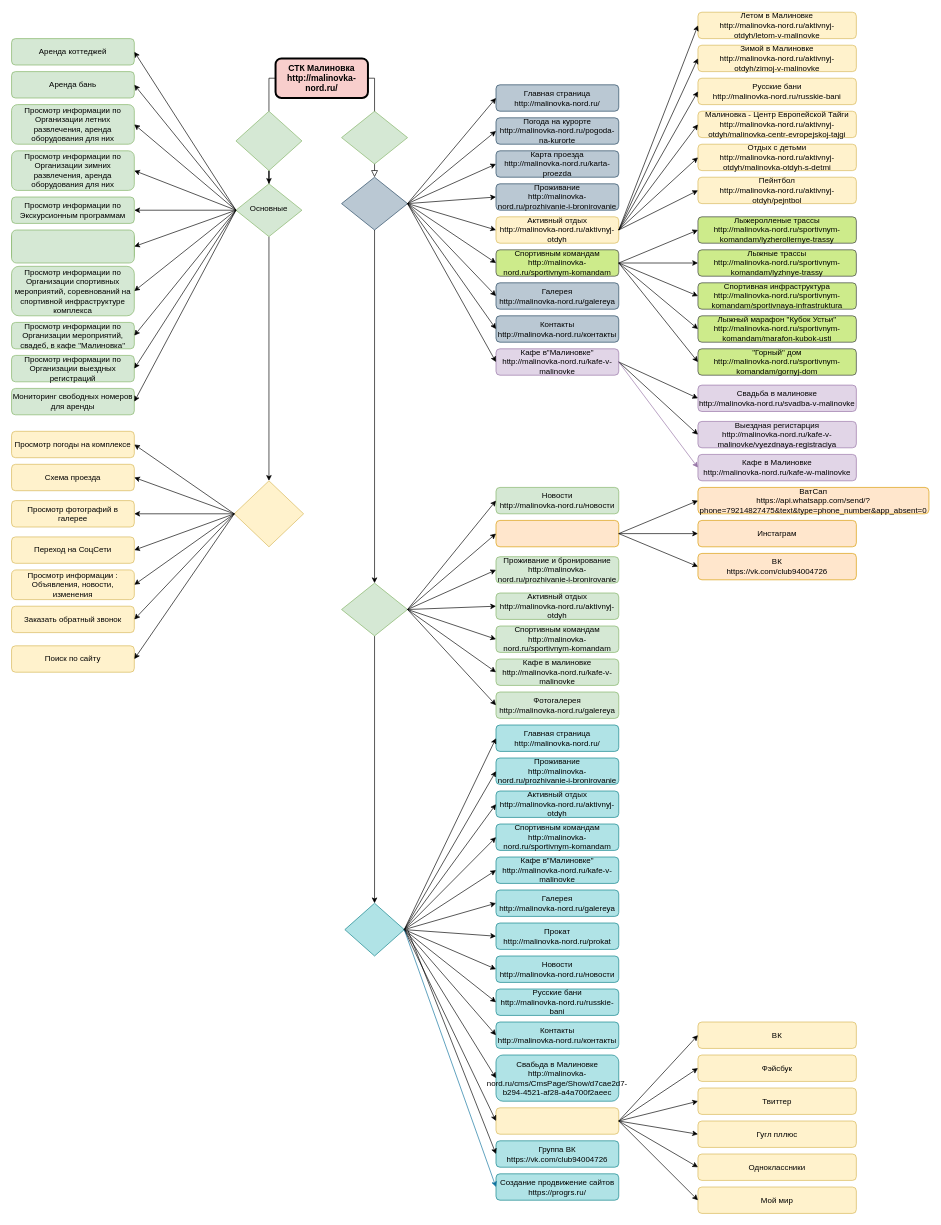
Some shapes in this 941 by 1225 pixel diagram are drawn without their labels. Here are the shapes that lost their labels. From the top down, the centre of each, then its label:
At pixel 268 141: "Функциональ ности".
At pixel 374 137: "Переходы".
At pixel 374 203: "Шапка сайта".
At pixel 72 246: "Просмотр информации по Организации игры в Пейнтбол".
At pixel 269 513: "Дополнительные".
At pixel 557 533: "Переход в Соц сети".
At pixel 374 609: "Главная страница".
At pixel 374 929: "Подвал".
At pixel 557 1120: "Поделиться в Соц сети".
